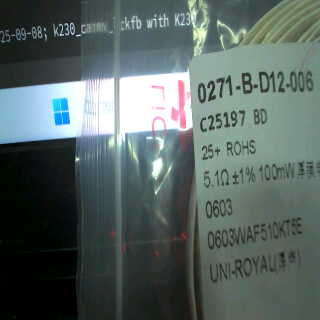5.1R: (202, 166, 231, 193)
